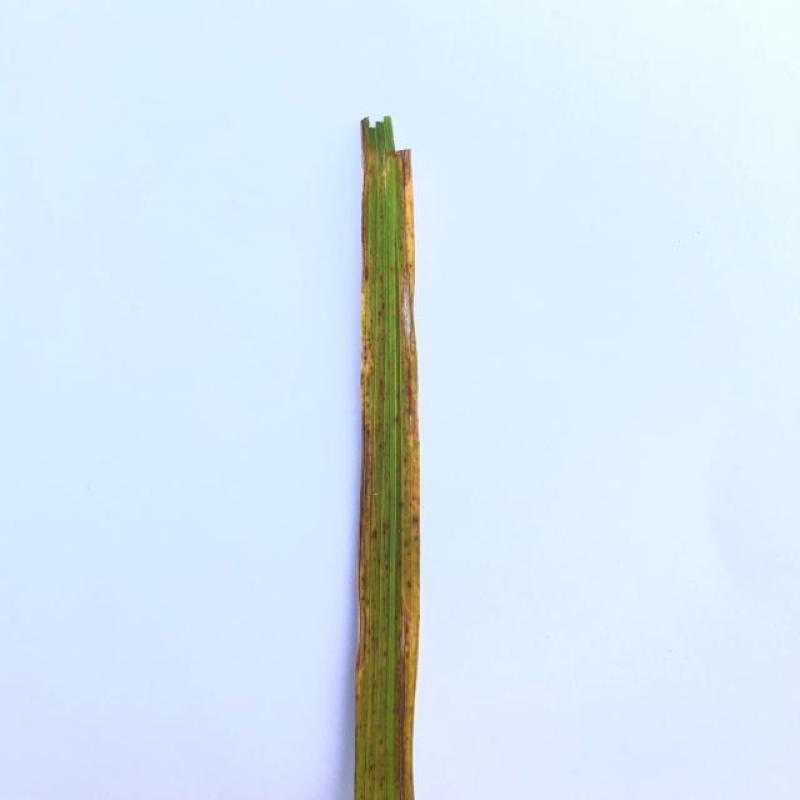Rice Tungro: (392, 150, 423, 681), (358, 228, 382, 582)
